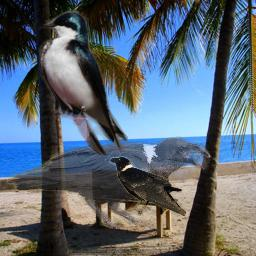Crow: (5, 135, 212, 231), (109, 155, 186, 216)
Swallow: (38, 10, 128, 155)
